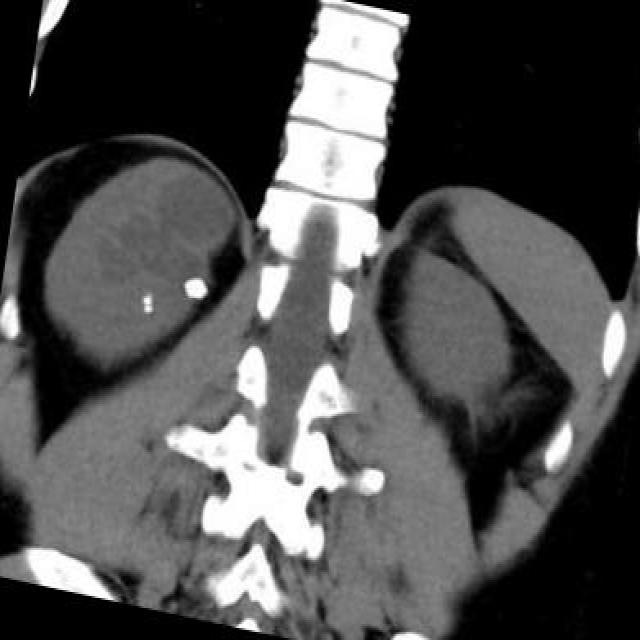Tas_Var: (177, 268, 214, 304), (134, 292, 154, 306), (139, 303, 154, 315)
